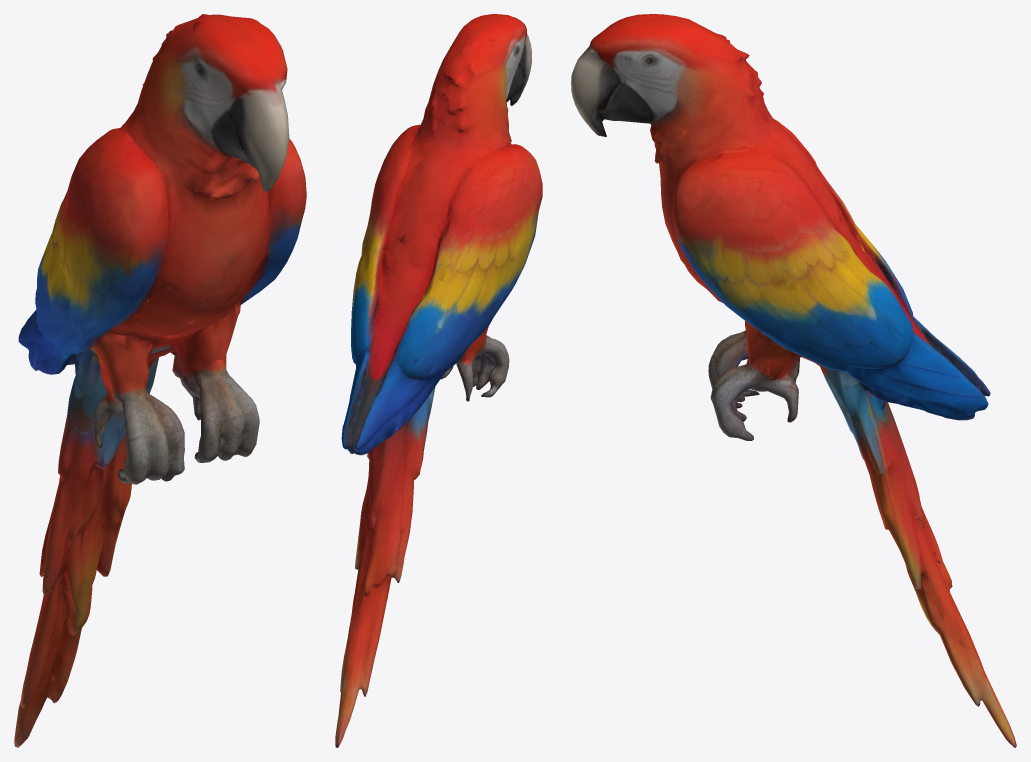
The model's file is parrot.glb.
3 renders of one model, left to right at view 1: azimuth 30°, elevation 25°; view 2: azimuth 150°, elevation 25°; view 3: azimuth 270°, elevation 25°, orthographic. The views are drawn at different scales.
Size of the model in its own units: 0.4876 by 2 by 1.11.
Materials: 1 (1 with a texture image).
